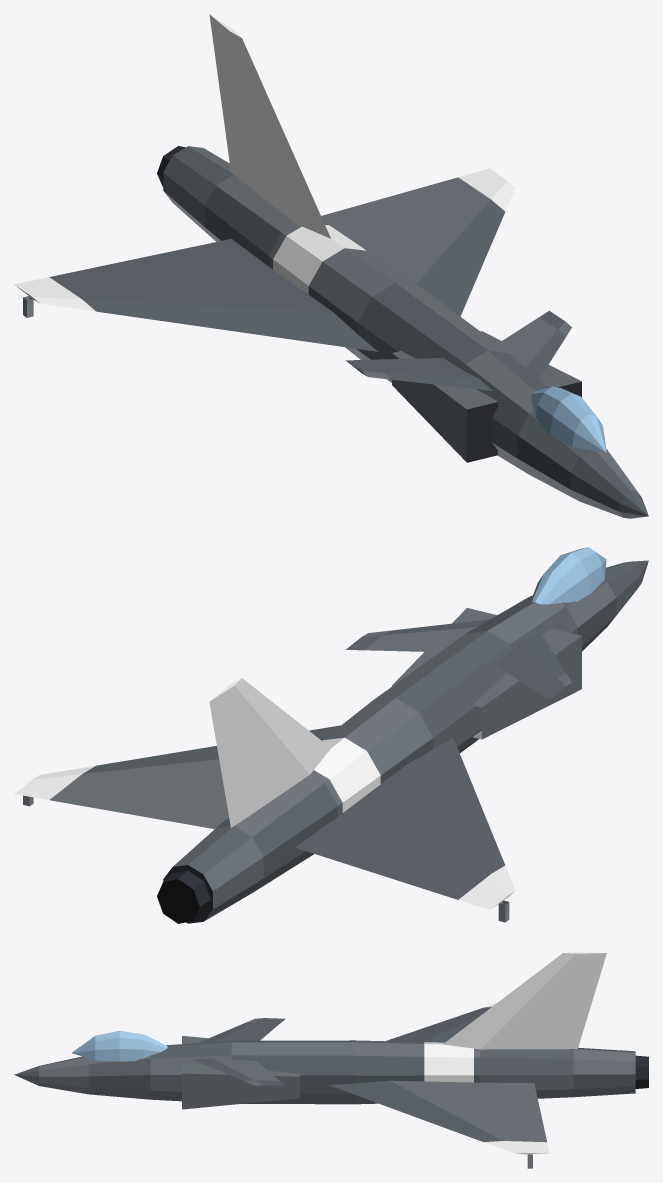
The model's file is jas39c_lod.glb.
The picture shows the model from 3 angles, top to bottom: view 1: azimuth 30°, elevation 25°; view 2: azimuth 150°, elevation 25°; view 3: azimuth 270°, elevation 25°; orthographic projection. The views are drawn at different scales.
Parts seen in each view (by area): view 1: body; view 2: body; view 3: body.
Boxes of the visible parts, x1,y1,x2,y2 form: body: (14, 14, 648, 518); body: (14, 547, 648, 923); body: (14, 952, 648, 1168).
Bounding box in the file's own units: 8.52 × 3.74 × 14.4.
